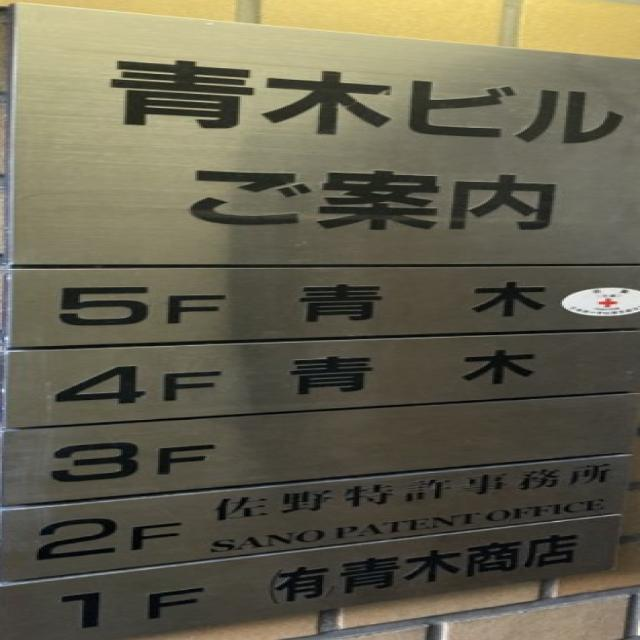building: (66, 42, 638, 157)
facility: (207, 458, 626, 556), (253, 525, 603, 613), (273, 340, 566, 402), (279, 275, 554, 330)
floor: (31, 428, 244, 492), (33, 354, 246, 416), (37, 274, 245, 337), (37, 569, 221, 636), (16, 501, 187, 568)
